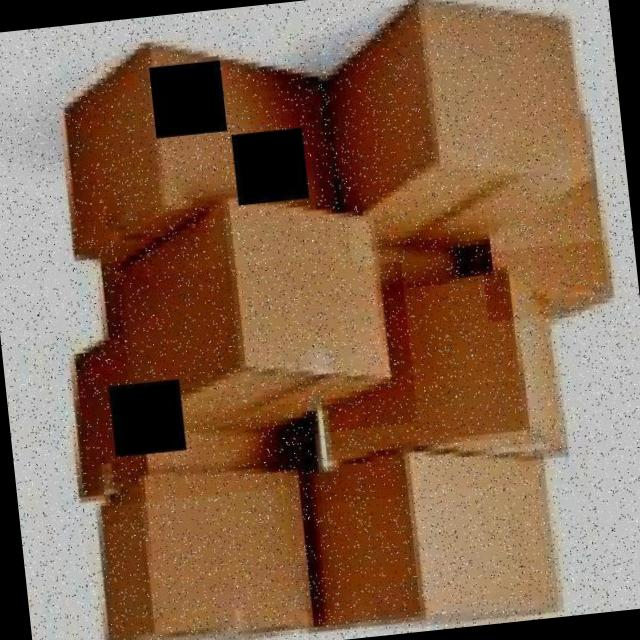box: (90, 171, 418, 454), (31, 8, 340, 284), (325, 0, 611, 266), (290, 254, 588, 505), (44, 255, 294, 510), (298, 420, 589, 638), (87, 445, 326, 640), (462, 64, 622, 322)
